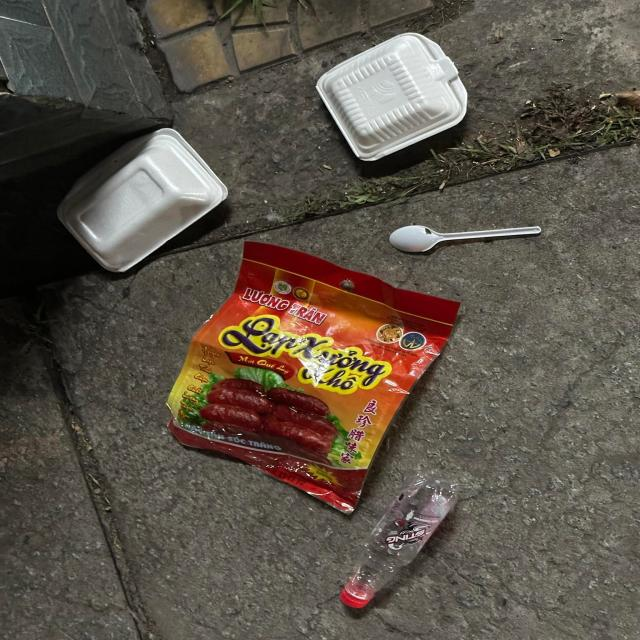bottle: (342, 468, 466, 612)
foam box: (68, 128, 229, 275), (312, 32, 470, 165)
plastic utensil: (392, 224, 544, 256)
snack package: (169, 242, 461, 520)
